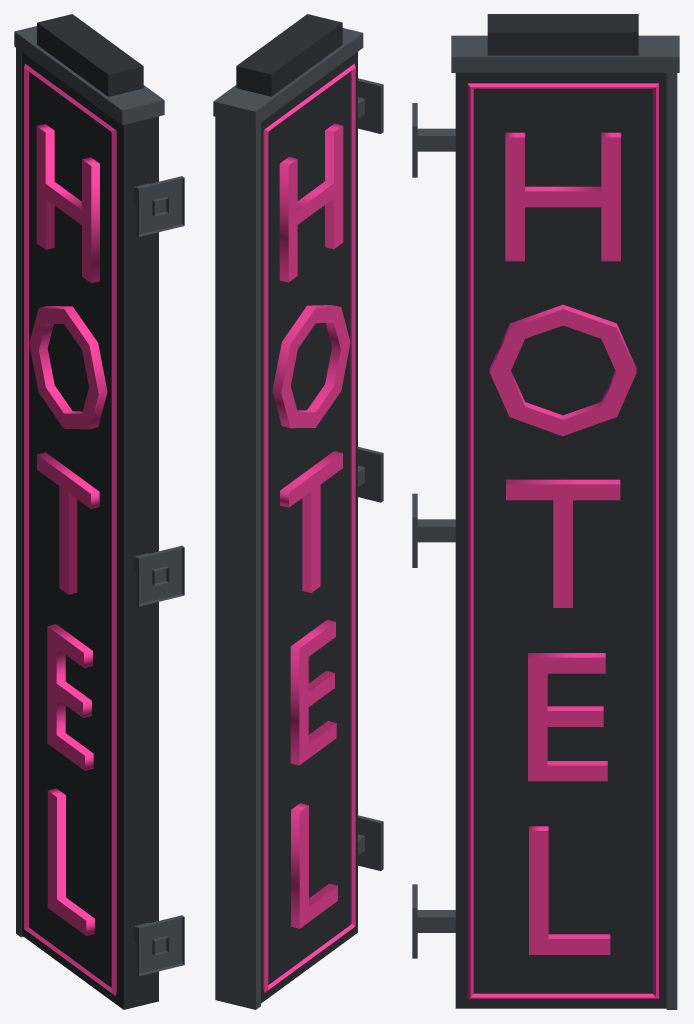
Rendered from sign_blade_hotel.glb.
3 renders of one model, left to right at view 1: azimuth 30°, elevation 25°; view 2: azimuth 150°, elevation 25°; view 3: azimuth 270°, elevation 25°, orthographic. The views are drawn at different scales.
Visible parts, largest first — view 1: sign_blade_hotel__mesh; view 2: sign_blade_hotel__mesh; view 3: sign_blade_hotel__mesh.
Part boxes in pixels (left/top/right/bottom): sign_blade_hotel__mesh: left=14, top=14, right=184, bottom=1009; sign_blade_hotel__mesh: left=213, top=14, right=383, bottom=1009; sign_blade_hotel__mesh: left=412, top=14, right=679, bottom=1009.
Bounding box in the file's own units: 0.3 × 5 × 1.24.
1 material, 1 textured.
